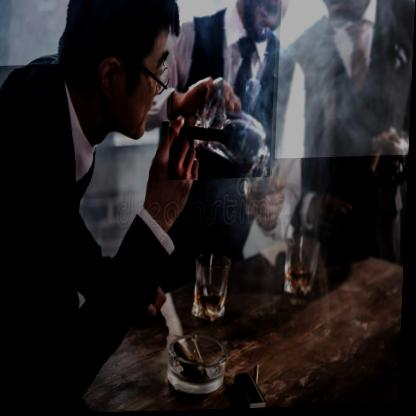smoke: (276, 0, 416, 160), (170, 0, 278, 181), (0, 64, 66, 213)
